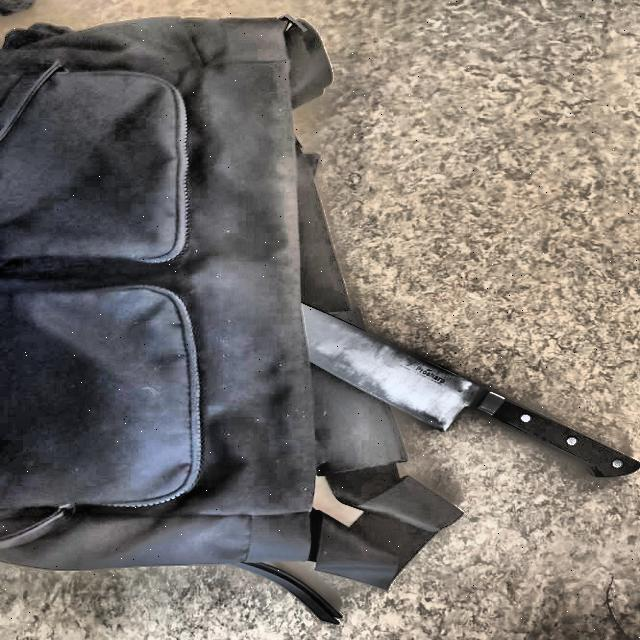knife: (298, 294, 638, 483)
